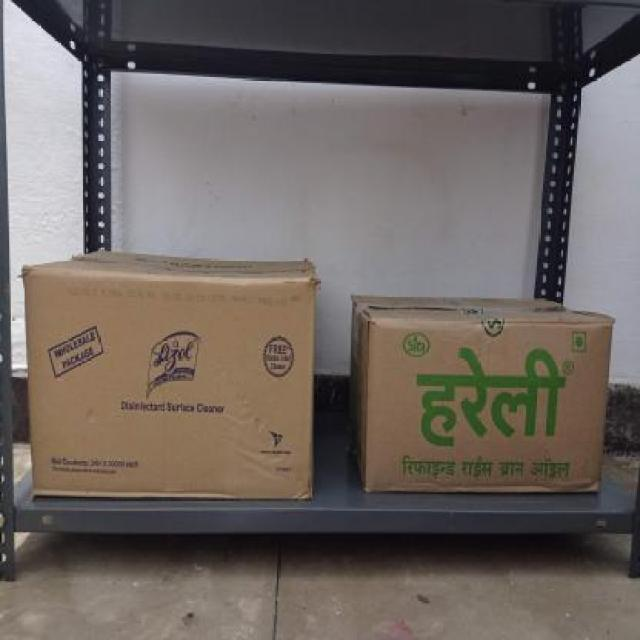box: (26, 274, 320, 496), (368, 316, 606, 493)
